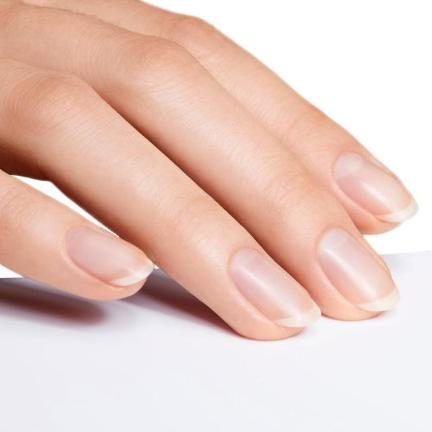Nail: (229, 248, 321, 327), (318, 229, 401, 312), (332, 152, 418, 222), (67, 225, 154, 287)
